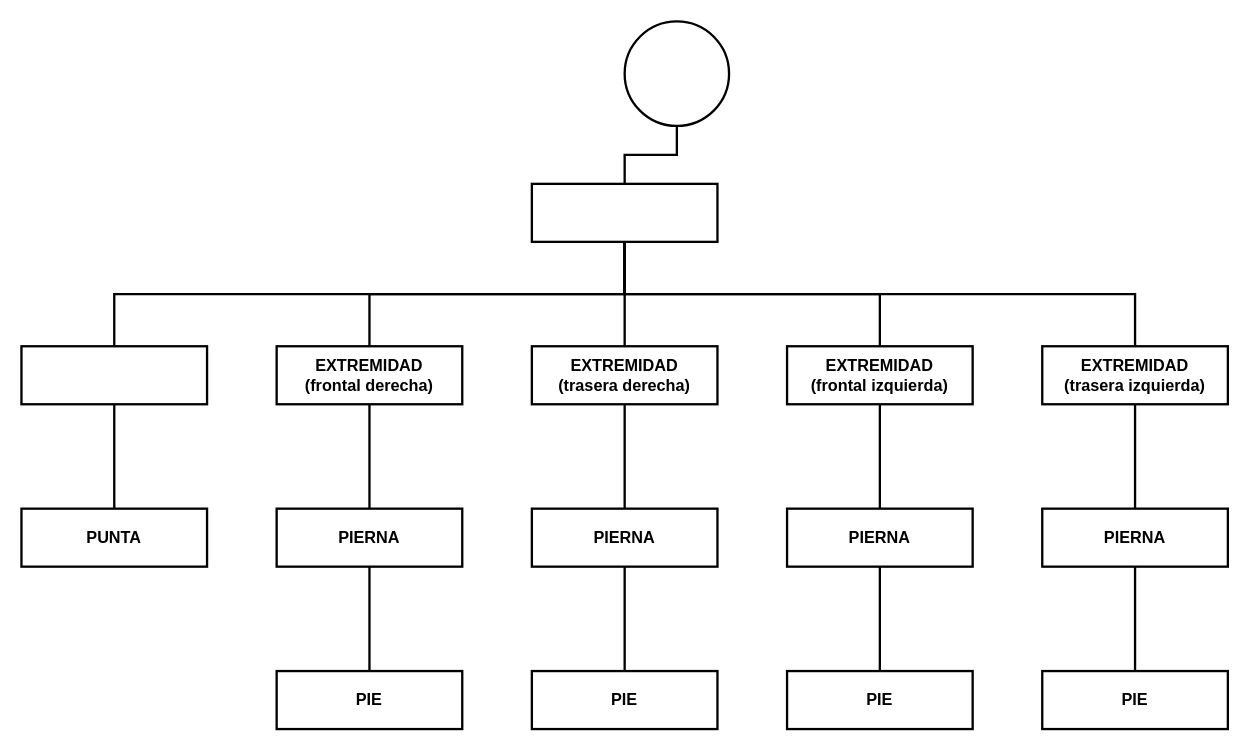
Some shapes in this 1248 by 749 pixel diagram are drawn without their labels. Here are the shapes that lost their labels. From the top down, the centre of each, then its label:
(x=624, y=212): CUERPO
(x=114, y=375): ANTENA
